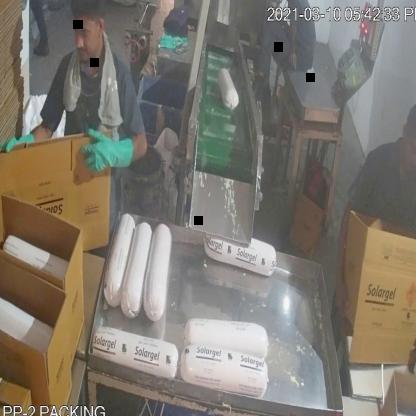glove: (78, 122, 144, 192)
no_glove: (330, 180, 359, 318)
